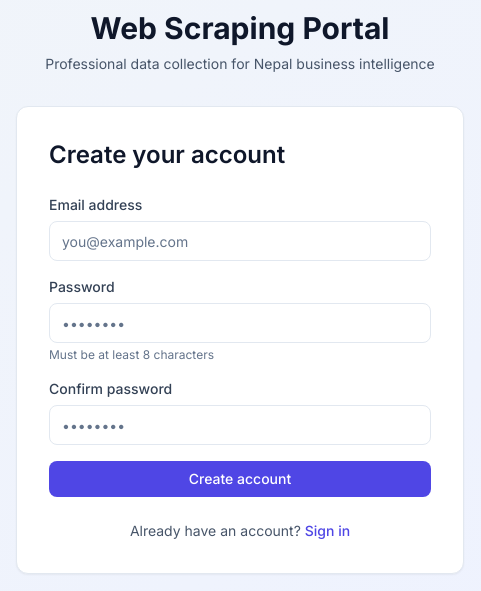
RegisterPage › Successful Registration › shows loading state during registration
Type "test@example.com" into the field labelled "Email address" at (240, 241), box [49,221,431,261]
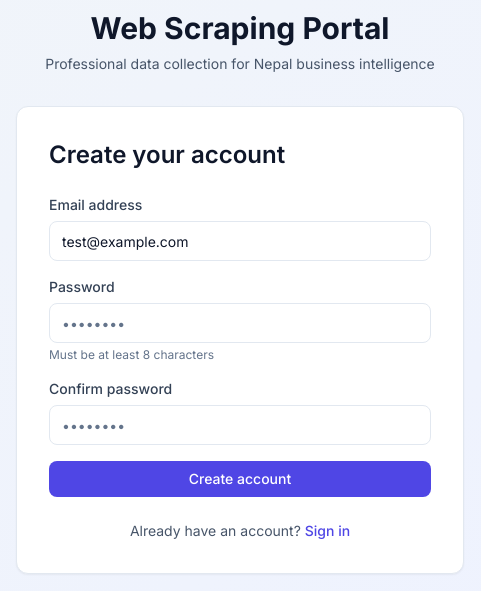
Type "password123" into the password field labelled "Password" at (240, 323), box [49,303,431,343]
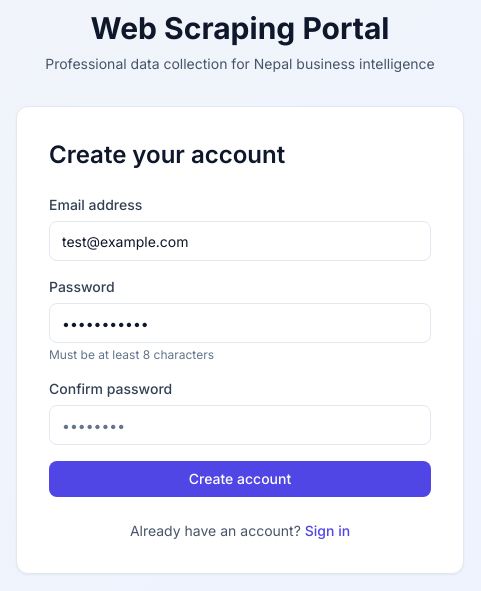
Type "password123" into the password field labelled "Confirm password" at (240, 425), box [49,405,431,445]
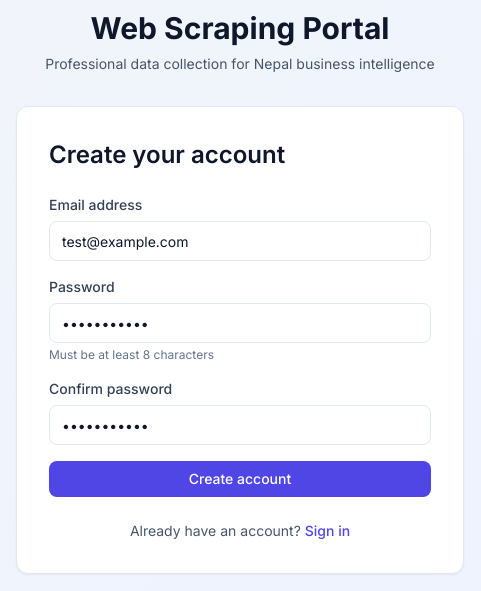
Click the button "Create account" at (240, 479), box [49,461,431,497]
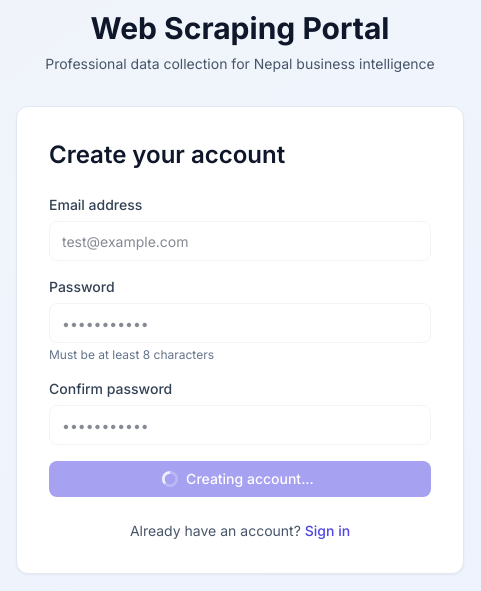
Check: the text "Creating account..." is shown, box [166,469,314,489]
Check: the button named "create account" is disabled, box [49,461,431,497]
